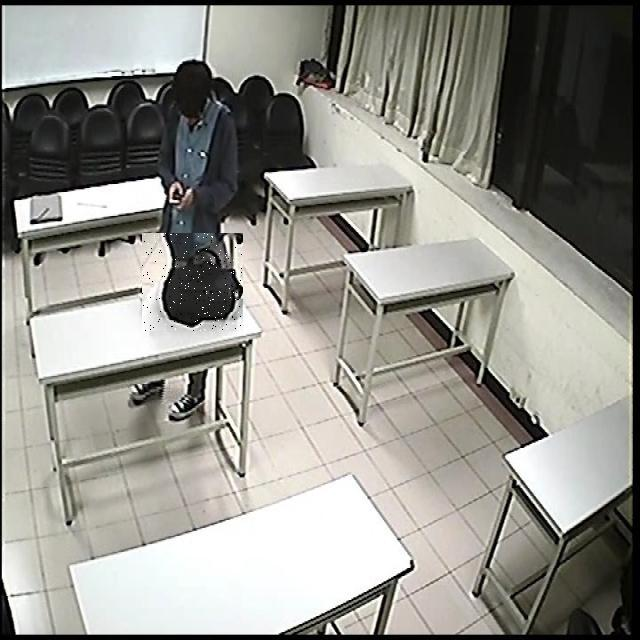abandoned-object: (142, 233, 243, 331)
